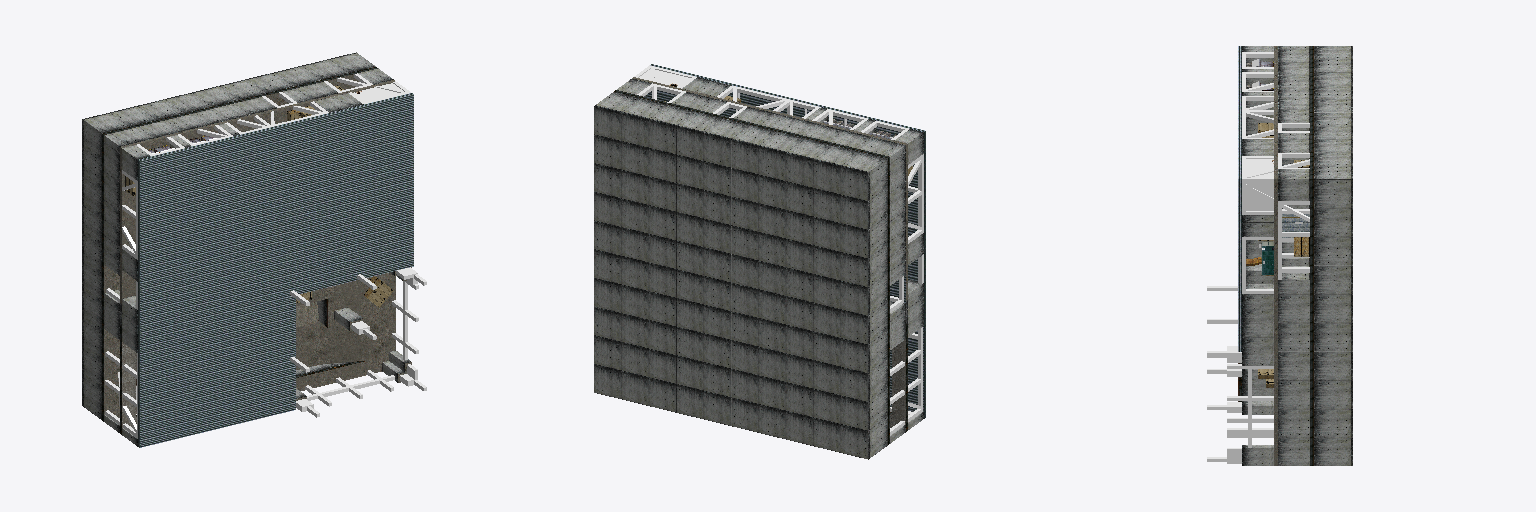
3 renders of one model, left to right at view 1: azimuth 30°, elevation 25°; view 2: azimuth 150°, elevation 25°; view 3: azimuth 270°, elevation 25°, orthographic.
Visible parts, largest first — view 1: BSP_Object.model_0; view 2: BSP_Object.model_0; view 3: BSP_Object.model_0, BSP_Object.model_171.
Boxes of the visible parts, x1=… form: BSP_Object.model_0: x1=82, y1=52, x2=426, y2=447; BSP_Object.model_0: x1=594, y1=64, x2=925, y2=459; BSP_Object.model_0: x1=1207, y1=46, x2=1352, y2=465; BSP_Object.model_171: x1=1246, y1=183, x2=1273, y2=210.
Size of the model in its own units: 64 by 64 by 29.6.
Materials: 41 (26 with a texture image).